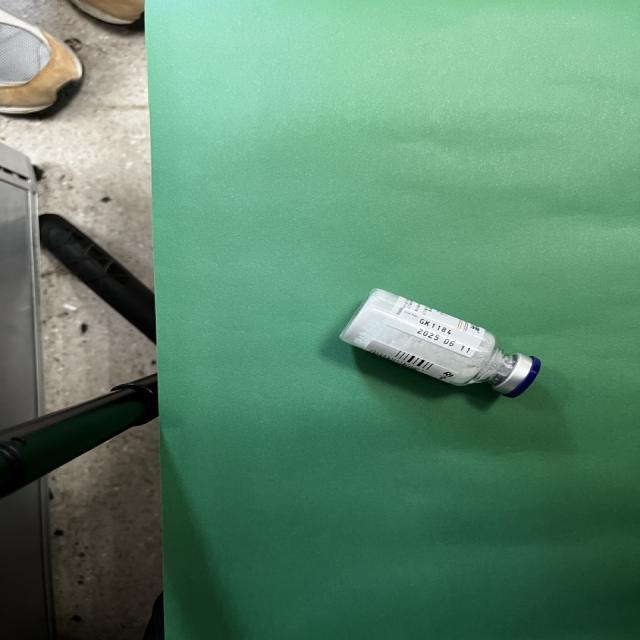Vials: (340, 289, 539, 397)
